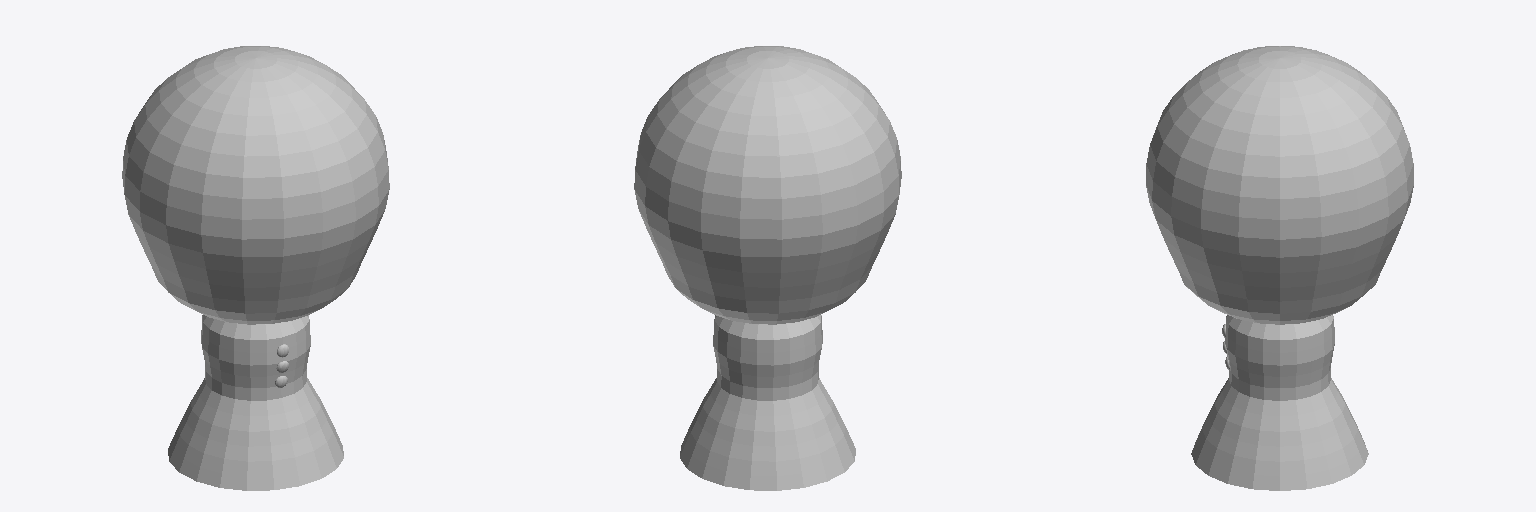
File: player_body.obj
3 renders of one model, left to right at view 1: azimuth 30°, elevation 25°; view 2: azimuth 150°, elevation 25°; view 3: azimuth 270°, elevation 25°, orthographic.
Visible parts, largest first — view 1: pSphere2, pCylinder5; view 2: pSphere2, pCylinder5; view 3: pSphere2, pCylinder5.
Boxes of the visible parts, <box> form: pSphere2: <box>122,46,389,324</box>; pCylinder5: <box>168,315,343,490</box>; pSphere2: <box>634,46,901,324</box>; pCylinder5: <box>680,315,855,490</box>; pSphere2: <box>1146,46,1413,324</box>; pCylinder5: <box>1191,315,1368,490</box>.
Bounding box in the file's own units: 5.99 × 9.72 × 5.99.